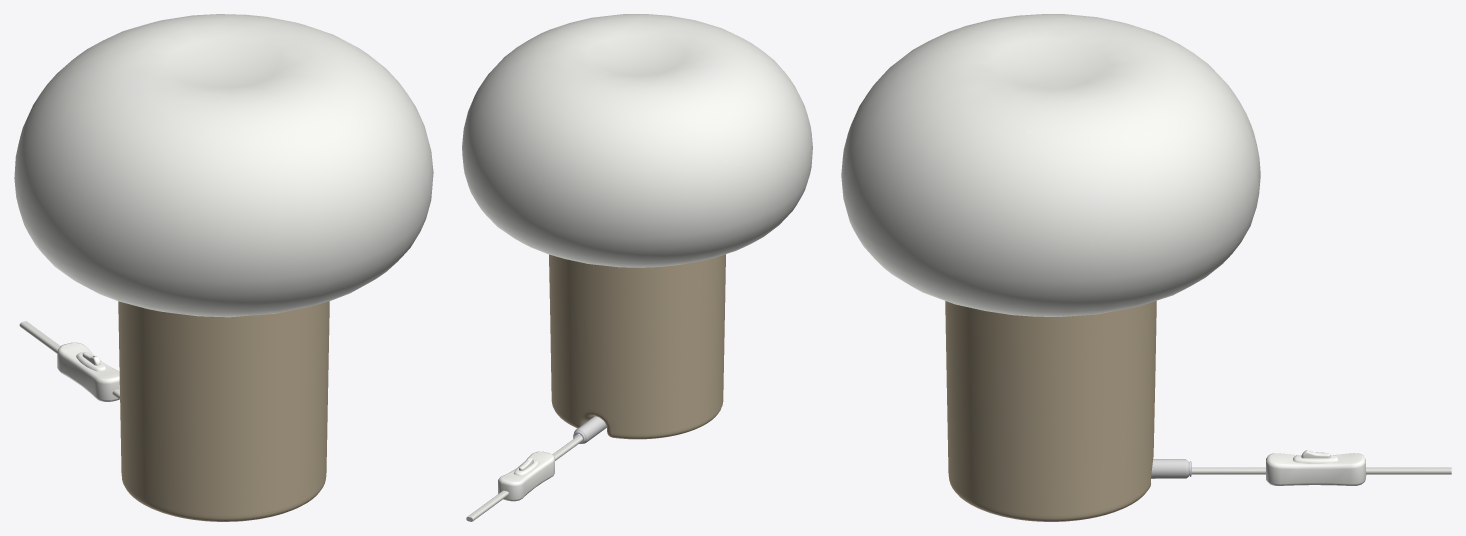
Rendered from dejsa_lampa_stoowa_90404983.glb.
3 renders of one model, left to right at view 1: azimuth 30°, elevation 25°; view 2: azimuth 150°, elevation 25°; view 3: azimuth 270°, elevation 25°, orthographic. The views are drawn at different scales.
Parts seen in each view (by area): view 1: dejsa_lampa_stoowa_90404983; view 2: dejsa_lampa_stoowa_90404983; view 3: dejsa_lampa_stoowa_90404983.
Boxes of the visible parts, left/top/right/bottom form: dejsa_lampa_stoowa_90404983: left=14, top=14, right=433, bottom=521; dejsa_lampa_stoowa_90404983: left=462, top=14, right=812, bottom=521; dejsa_lampa_stoowa_90404983: left=841, top=14, right=1451, bottom=521.
Size of the model in its own units: 0.2555 by 0.2826 by 0.3723.
2 materials, 2 textured.
